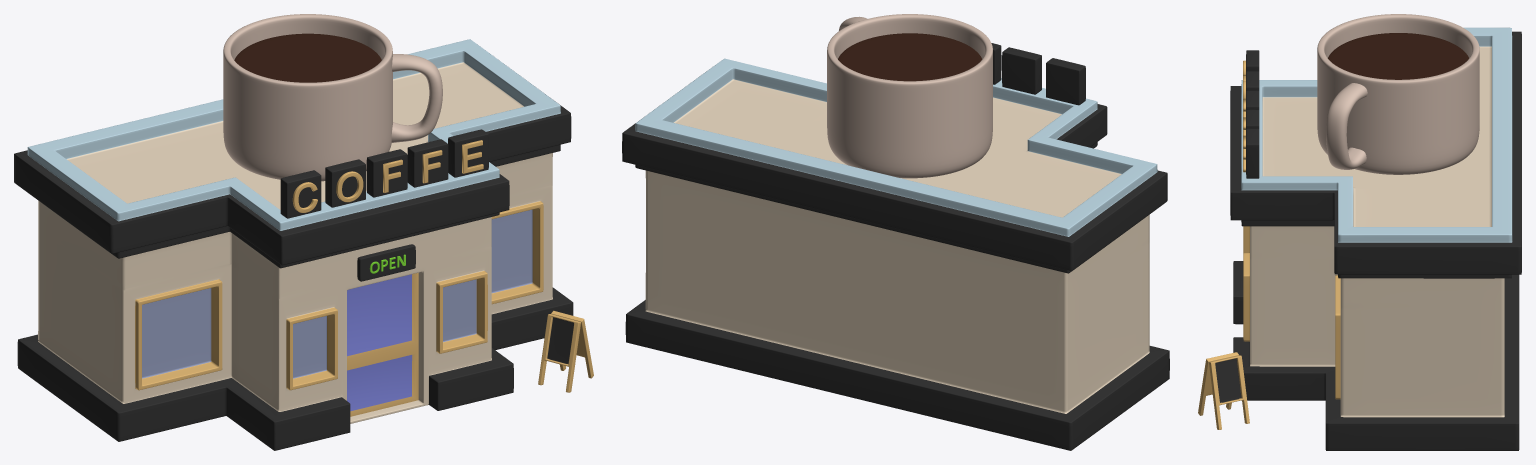
Rendered from Coffe Shop.fbx.
3 views of the same model, side by side, from view 1: azimuth 30°, elevation 25°; view 2: azimuth 150°, elevation 25°; view 3: azimuth 270°, elevation 25° (orthographic). The views are drawn at different scales.
Parts seen in each view (by area): view 1: Cube.001, Mug Body geo.003, Cube.002, Cube.007, Coffe.003, Cube.015, Mug Handle geo.003, Text.001, Cube.003; view 2: Cube.001, Mug Body geo.003, Coffe.003, Cube.007; view 3: Cube.001, Mug Body geo.003, Coffe.003, Cube.015, Mug Handle geo.003, Cube.007, Text.001.
Boxes of the visible parts, bbox=[...] form: Cube.001: bbox=[14, 39, 573, 450]; Mug Body geo.003: bbox=[223, 14, 392, 181]; Cube.002: bbox=[347, 272, 418, 416]; Cube.007: bbox=[280, 129, 488, 218]; Coffe.003: bbox=[234, 33, 381, 82]; Cube.015: bbox=[538, 310, 593, 392]; Mug Handle geo.003: bbox=[391, 54, 442, 142]; Text.001: bbox=[292, 140, 483, 212]; Cube.003: bbox=[357, 244, 415, 281]; Cube.001: bbox=[622, 58, 1169, 450]; Mug Body geo.003: bbox=[827, 14, 992, 178]; Coffe.003: bbox=[838, 33, 982, 81]; Cube.007: bbox=[991, 43, 1085, 105]; Cube.001: bbox=[1230, 27, 1521, 450]; Mug Body geo.003: bbox=[1317, 14, 1479, 174]; Coffe.003: bbox=[1328, 33, 1468, 79]; Cube.015: bbox=[1198, 352, 1249, 429]; Mug Handle geo.003: bbox=[1326, 83, 1367, 169]; Cube.007: bbox=[1246, 50, 1259, 178]; Text.001: bbox=[1243, 60, 1245, 172].
Size of the model in its own units: 356 by 229 by 227.
